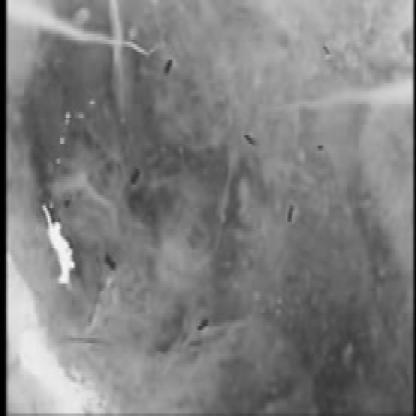rehkitze: (39, 197, 77, 291)
